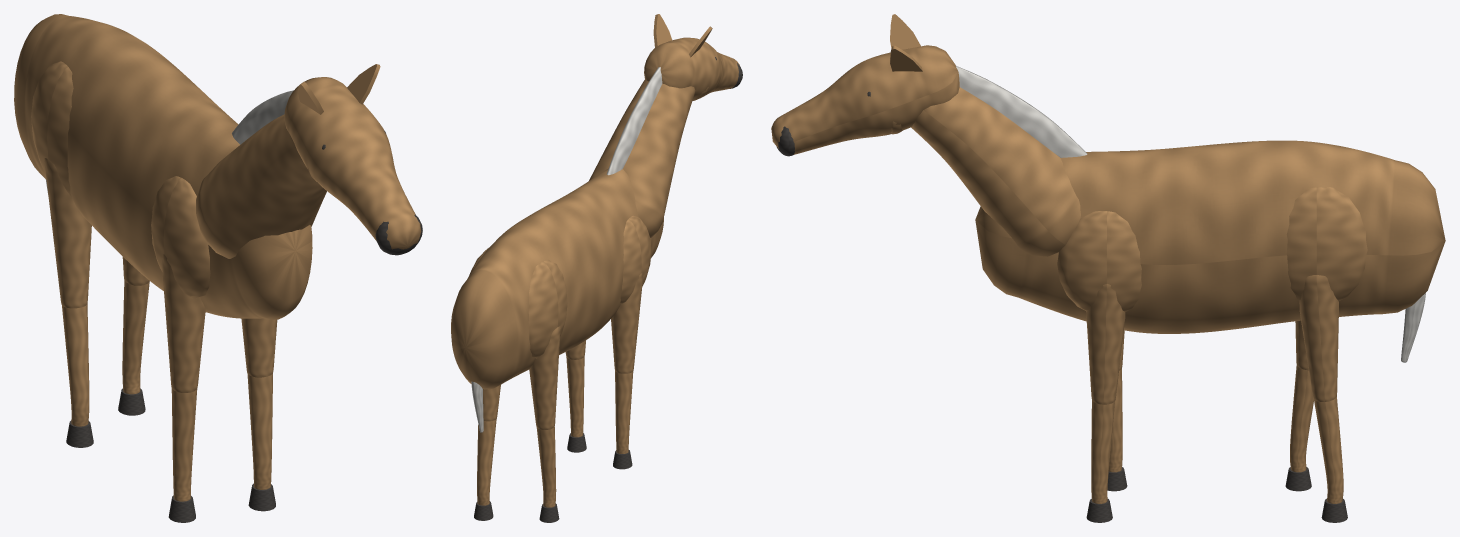
File: farm-and-working-animals-hd-horse-standing-chestnut-6b72d3d5__29175.glb
The picture shows the model from 3 angles, left to right: view 1: azimuth 30°, elevation 25°; view 2: azimuth 150°, elevation 25°; view 3: azimuth 270°, elevation 25°; orthographic projection. The views are drawn at different scales.
Visible parts, largest first — view 1: horse-standing-chestnut; view 2: horse-standing-chestnut; view 3: horse-standing-chestnut.
Boxes of the visible parts, bbox=[...] form: horse-standing-chestnut: bbox=[14, 14, 422, 522]; horse-standing-chestnut: bbox=[451, 14, 742, 522]; horse-standing-chestnut: bbox=[771, 14, 1445, 522].
Size of the model in its own units: 0.5076 by 2.16 by 2.8.
Materials: 3 (3 with a texture image).
